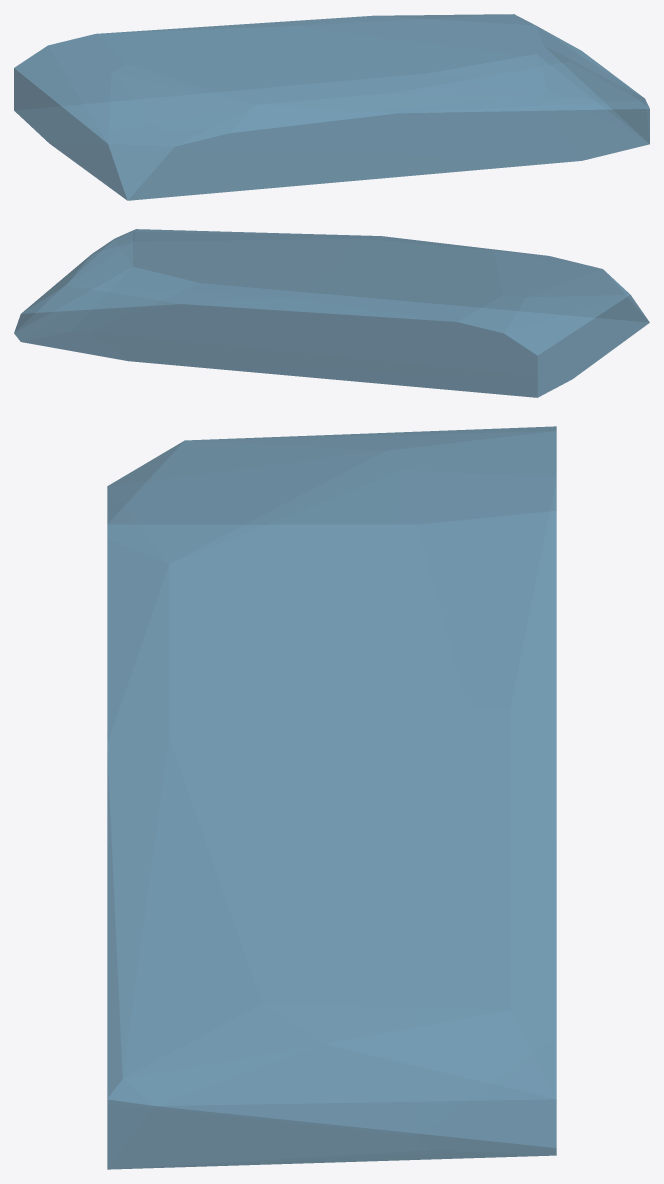
The picture shows the model from 3 angles, top to bottom: view 1: azimuth 30°, elevation 25°; view 2: azimuth 150°, elevation 25°; view 3: azimuth 270°, elevation 25°; orthographic projection. The views are drawn at different scales.
Visible parts, largest first — view 1: Shape_IndexedFaceSet.029_Shape_IndexedFaceSet.4448; view 2: Shape_IndexedFaceSet.029_Shape_IndexedFaceSet.4448; view 3: Shape_IndexedFaceSet.029_Shape_IndexedFaceSet.4448.
Part boxes in pixels (x1,y1,x2,y2): Shape_IndexedFaceSet.029_Shape_IndexedFaceSet.4448: (14, 14, 649, 200); Shape_IndexedFaceSet.029_Shape_IndexedFaceSet.4448: (14, 229, 649, 397); Shape_IndexedFaceSet.029_Shape_IndexedFaceSet.4448: (107, 426, 556, 1169).
Size of the model in its own units: 0.025 by 0.00609 by 0.00929.
